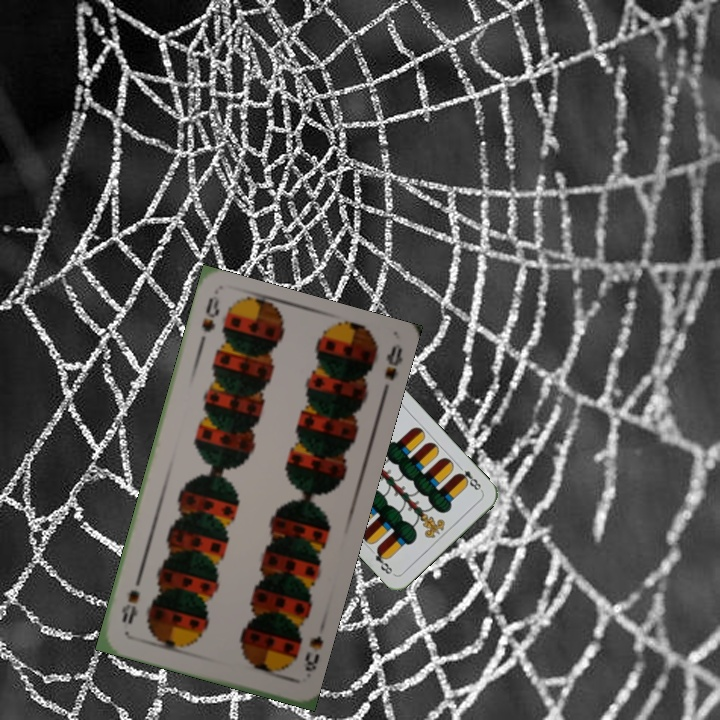E8: (453, 461, 485, 494)
S8: (194, 293, 222, 351), (300, 631, 326, 675)
